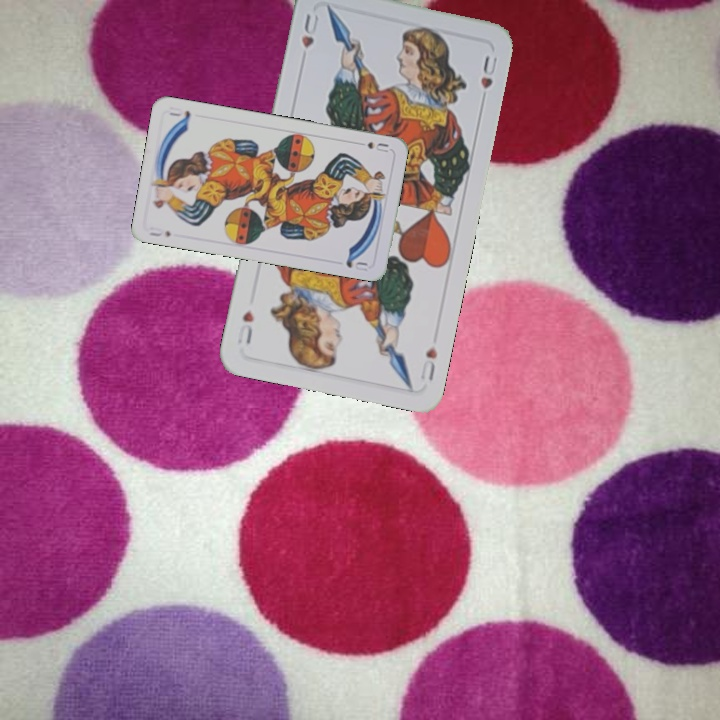HU: (297, 10, 322, 51), (416, 342, 440, 383)
SU: (363, 137, 391, 155), (146, 222, 173, 239)
